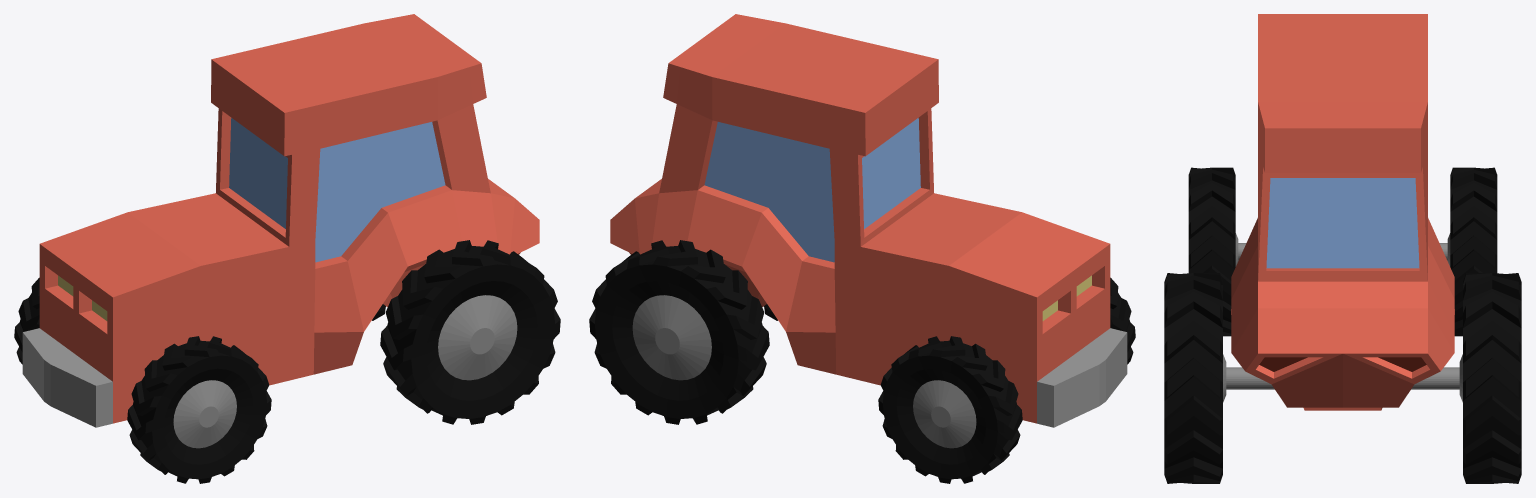
File: tractor.fbx
3 renders of one model, left to right at view 1: azimuth 30°, elevation 25°; view 2: azimuth 150°, elevation 25°; view 3: azimuth 270°, elevation 25°, orthographic. The views are drawn at different scales.
Visible parts, largest first — view 1: Cube.001; view 2: Cube.001; view 3: Cube.001.
Part boxes in pixels (left/top/right/bottom): Cube.001: left=14, top=14, right=560, bottom=483; Cube.001: left=589, top=14, right=1135, bottom=483; Cube.001: left=1164, top=14, right=1521, bottom=483.
Size of the model in its own units: 1076 by 729 by 632.
